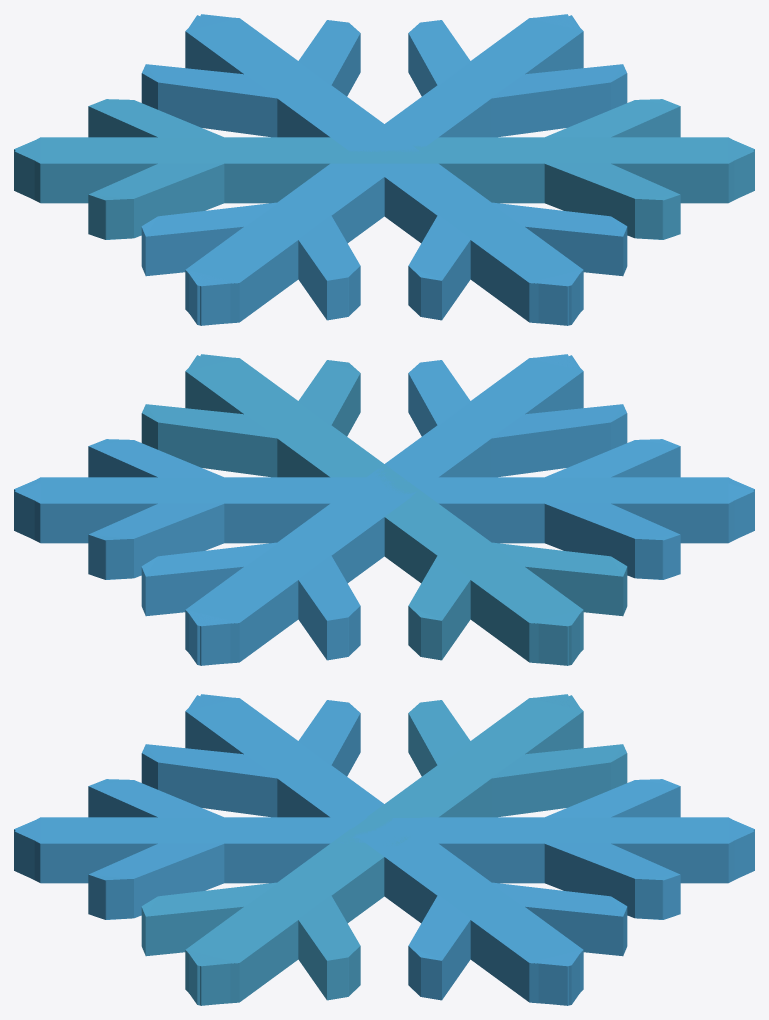
Rendered from snow.fbx.
3 views of the same model, one above another, from view 1: azimuth 30°, elevation 25°; view 2: azimuth 150°, elevation 25°; view 3: azimuth 270°, elevation 25° (orthographic).
Visible parts, largest first — view 1: Cube.001, Cube, Cube.002; view 2: Cube.002, Cube, Cube.001; view 3: Cube, Cube.001, Cube.002.
Part boxes in pixels (x1,y1,x2,y2): Cube.001: (14,99,754,239); Cube: (141,14,627,325); Cube.002: (141,14,627,325); Cube.002: (14,439,754,579); Cube: (141,354,627,665); Cube.001: (141,354,627,665); Cube: (14,779,754,919); Cube.001: (141,694,627,1005); Cube.002: (141,694,627,1005).
Bounding box in the file's own units: 318 × 22.52 × 366.
